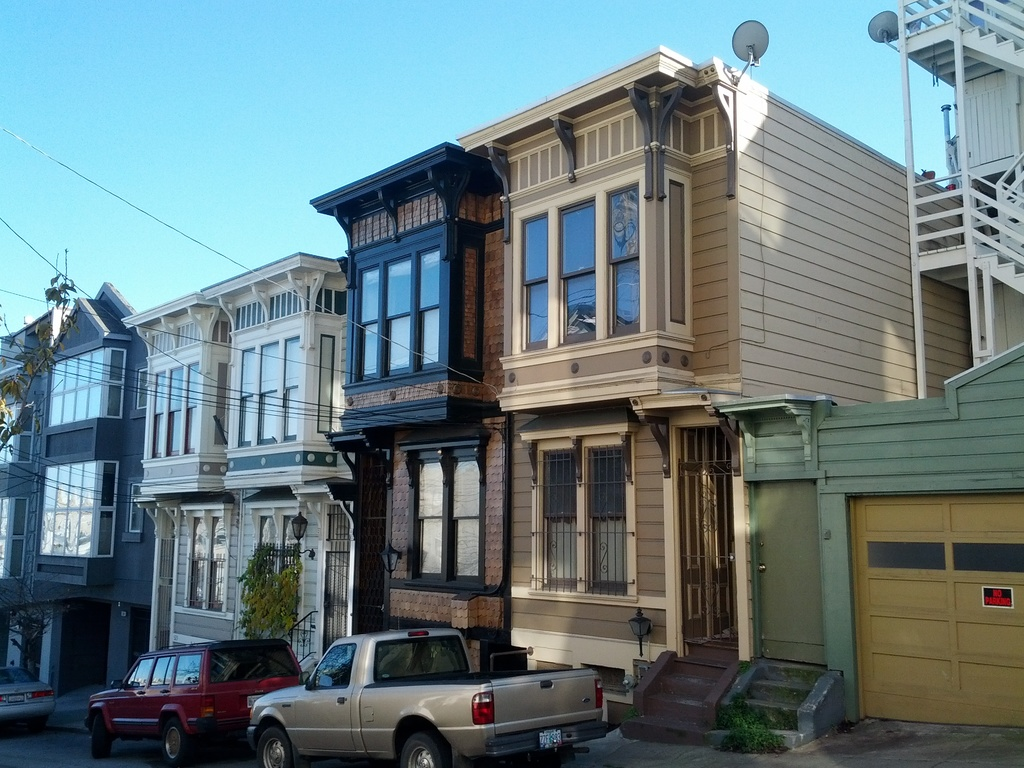car: (242, 622, 621, 768), (77, 632, 300, 756), (1, 652, 70, 727)
